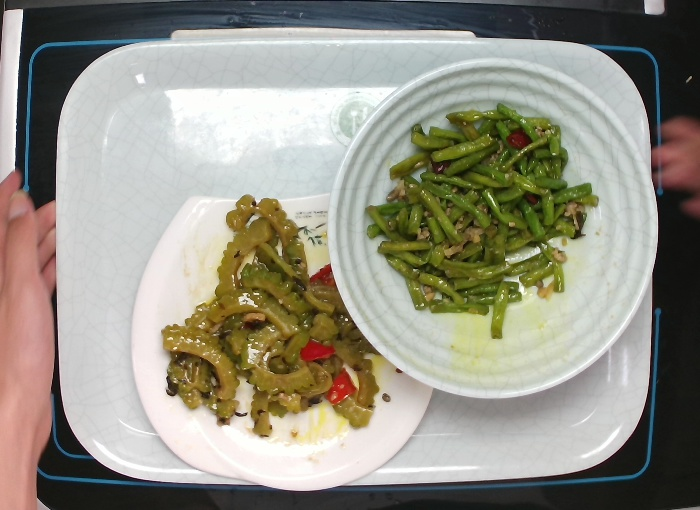JYsf-Da_Tang_Wan: (325, 56, 659, 400)
JYsf-Mian_Pan: (129, 189, 433, 492)
